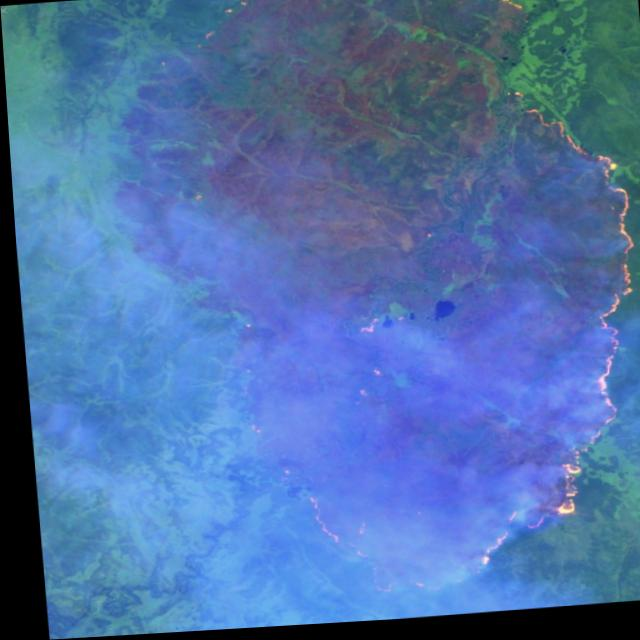fire: (174, 0, 640, 631)
